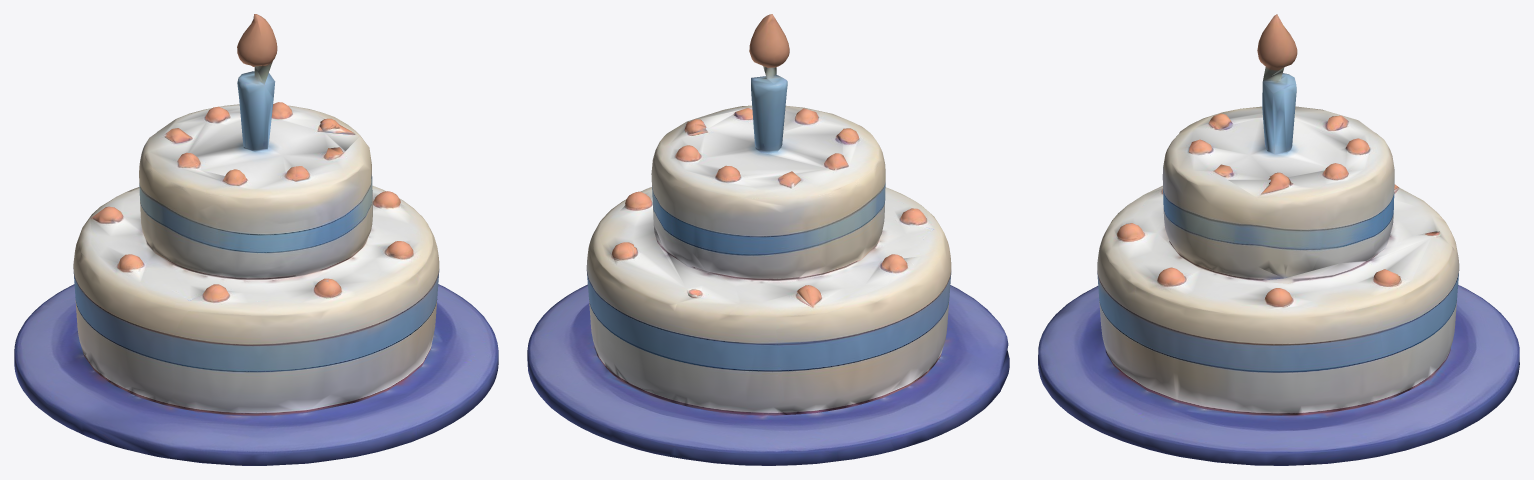
The picture shows the model from 3 angles, left to right: view 1: azimuth 30°, elevation 25°; view 2: azimuth 150°, elevation 25°; view 3: azimuth 270°, elevation 25°; orthographic projection.
Visible parts, largest first — view 1: node_0; view 2: node_0; view 3: node_0.
Part boxes in pixels (x1=…): node_0: x1=14, y1=14, x2=498, y2=465; node_0: x1=527, y1=14, x2=1009, y2=465; node_0: x1=1038, y1=14, x2=1519, y2=465.
Size of the model in its own units: 0.7078 by 0.568 by 0.7078.
1 material, 1 textured.
